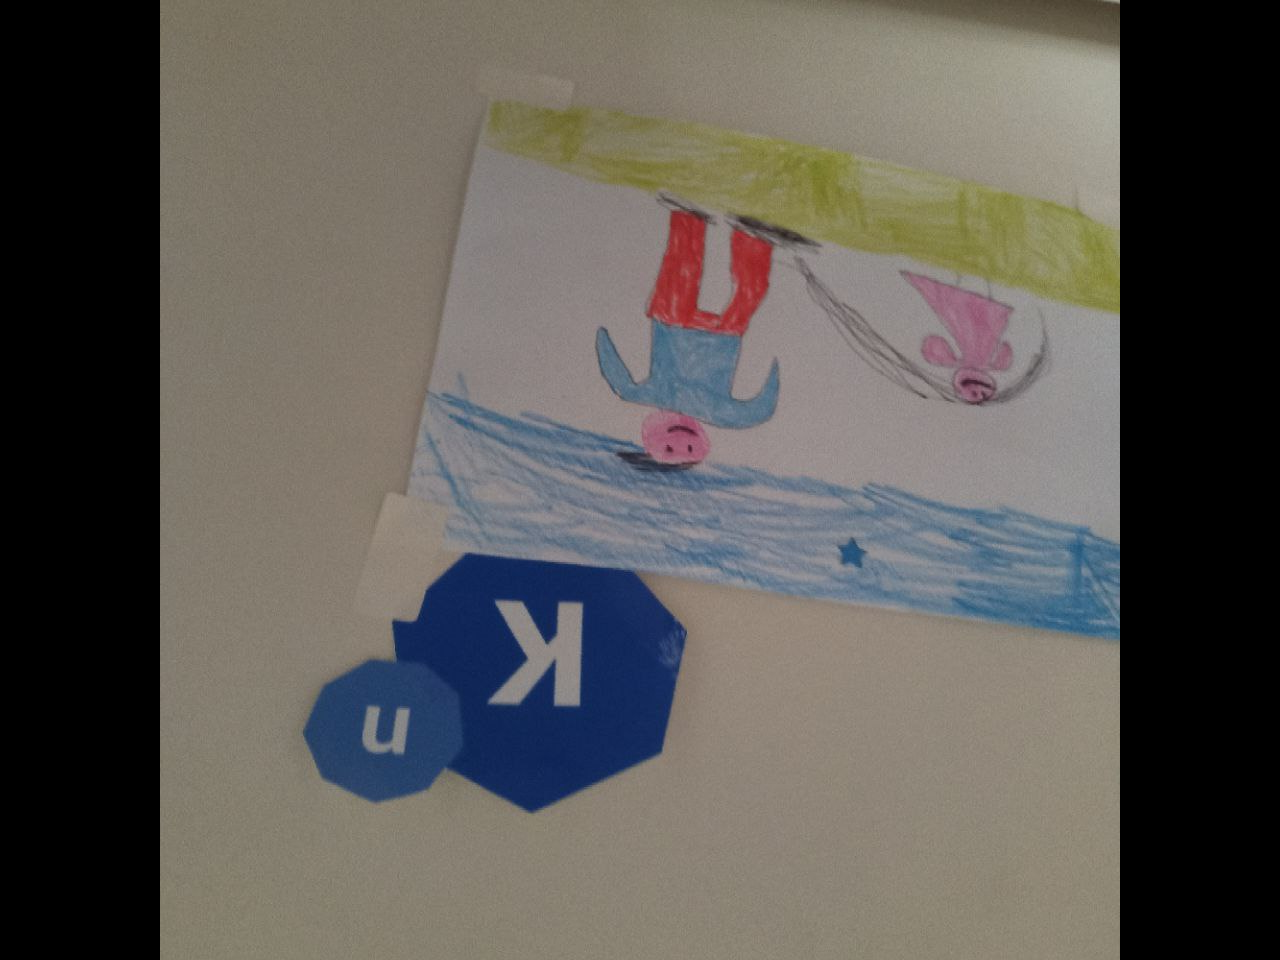knative: (303, 554, 687, 813)
